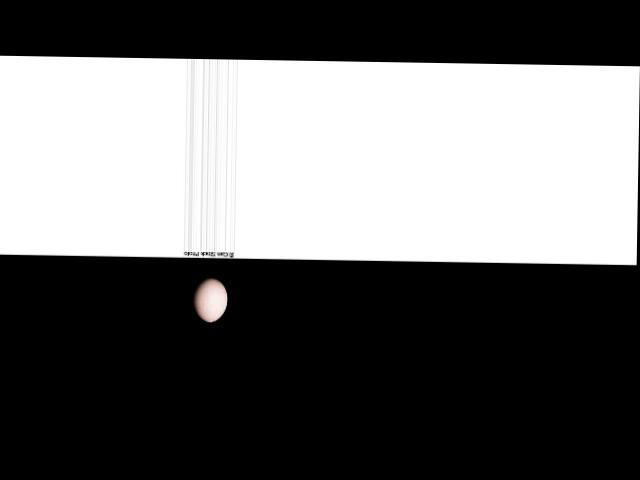egg: (192, 276, 227, 322)
